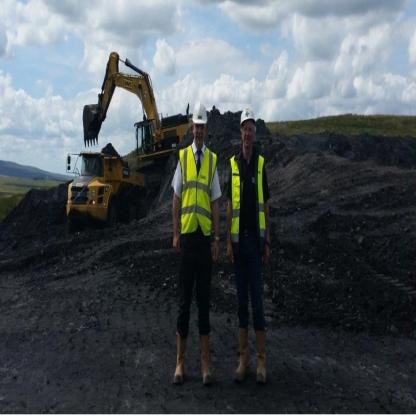dump_truck: (61, 143, 149, 238)
person: (229, 87, 271, 387), (170, 96, 212, 390)
